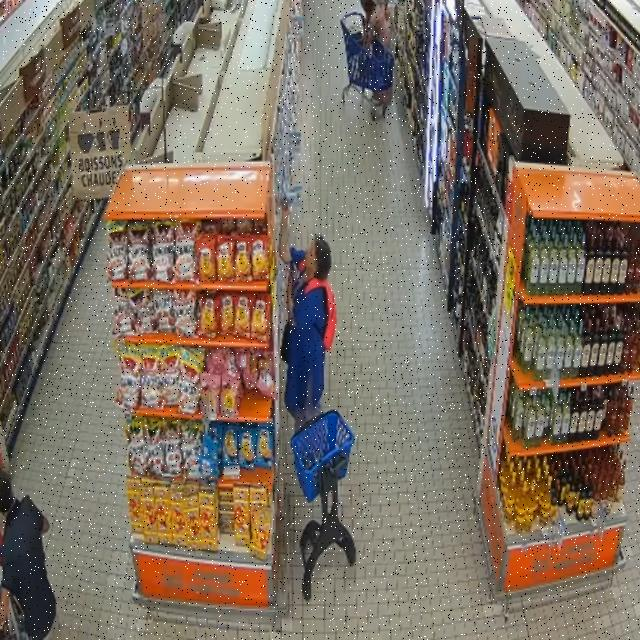article: (279, 179, 297, 207), (287, 179, 303, 207)
bags: (305, 279, 337, 351), (305, 279, 336, 350)
hands: (285, 267, 299, 289), (281, 203, 292, 215)
person: (280, 208, 331, 430), (0, 471, 56, 639), (368, 2, 391, 50)
